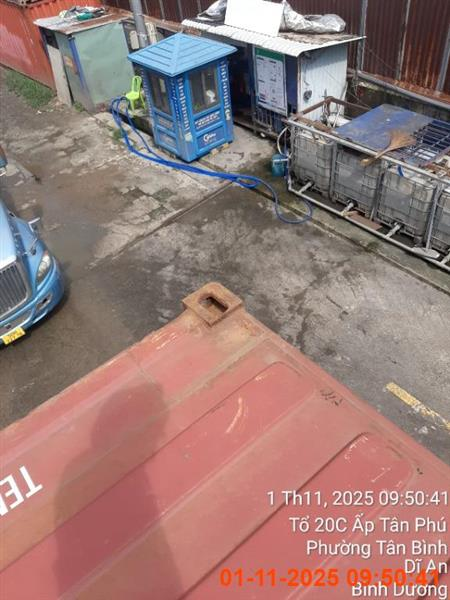hole: (0, 280, 449, 598), (0, 194, 68, 349)
